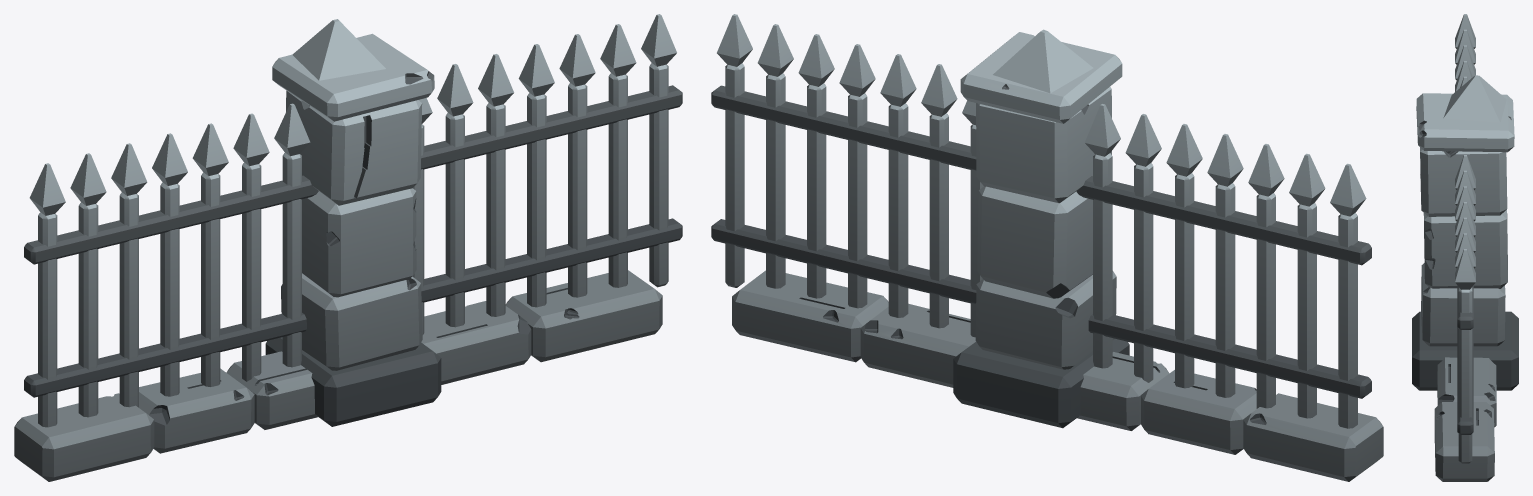
The model's file is graveyard_fence.glb.
3 views of the same model, side by side, from view 1: azimuth 30°, elevation 25°; view 2: azimuth 150°, elevation 25°; view 3: azimuth 270°, elevation 25° (orthographic). The views are drawn at different scales.
Parts seen in each view (by area): view 1: graveyard_fence; view 2: graveyard_fence; view 3: graveyard_fence.
Boxes of the visible parts, x1,y1,x2,y2 form: graveyard_fence: (14, 14, 682, 481); graveyard_fence: (711, 14, 1383, 481); graveyard_fence: (1412, 14, 1518, 481).
Bounding box in the file's own units: 4 × 2.17 × 0.72.
1 material, 1 textured.
